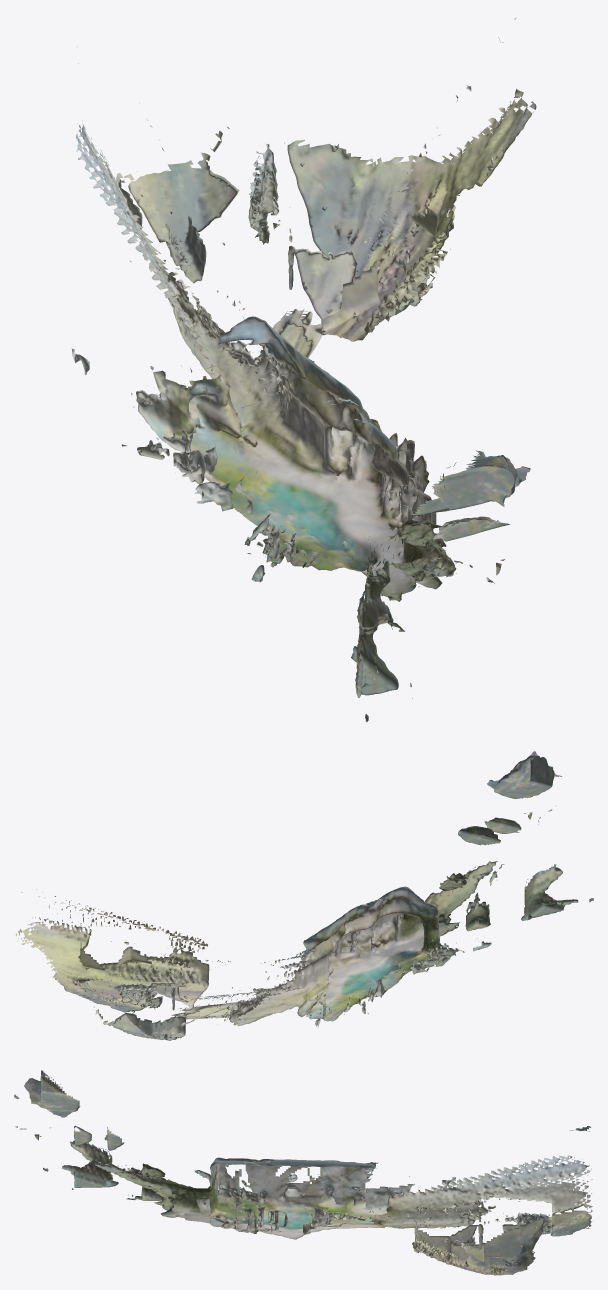
Rendered from enchanted-water-garden-collider.glb.
3 renders of one model, top to bottom at view 1: azimuth 30°, elevation 25°; view 2: azimuth 150°, elevation 25°; view 3: azimuth 270°, elevation 25°, orthographic. The views are drawn at different scales.
Parts seen in each view (by area): view 1: world; view 2: world; view 3: world.
Part boxes in pixels (left/top/right/bottom): world: left=71, top=17, right=536, bottom=722; world: left=15, top=751, right=593, bottom=1040; world: left=14, top=1070, right=592, bottom=1275.
Size of the model in its own units: 45.3 by 18.57 by 72.45.
